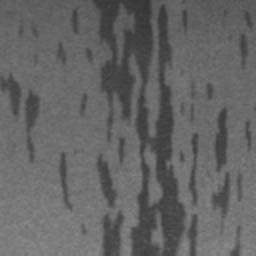Red iron sheet: (70, 0, 252, 256), (0, 73, 38, 161), (239, 12, 252, 70), (59, 152, 72, 209), (17, 19, 40, 36), (55, 42, 67, 65), (79, 93, 87, 115)
